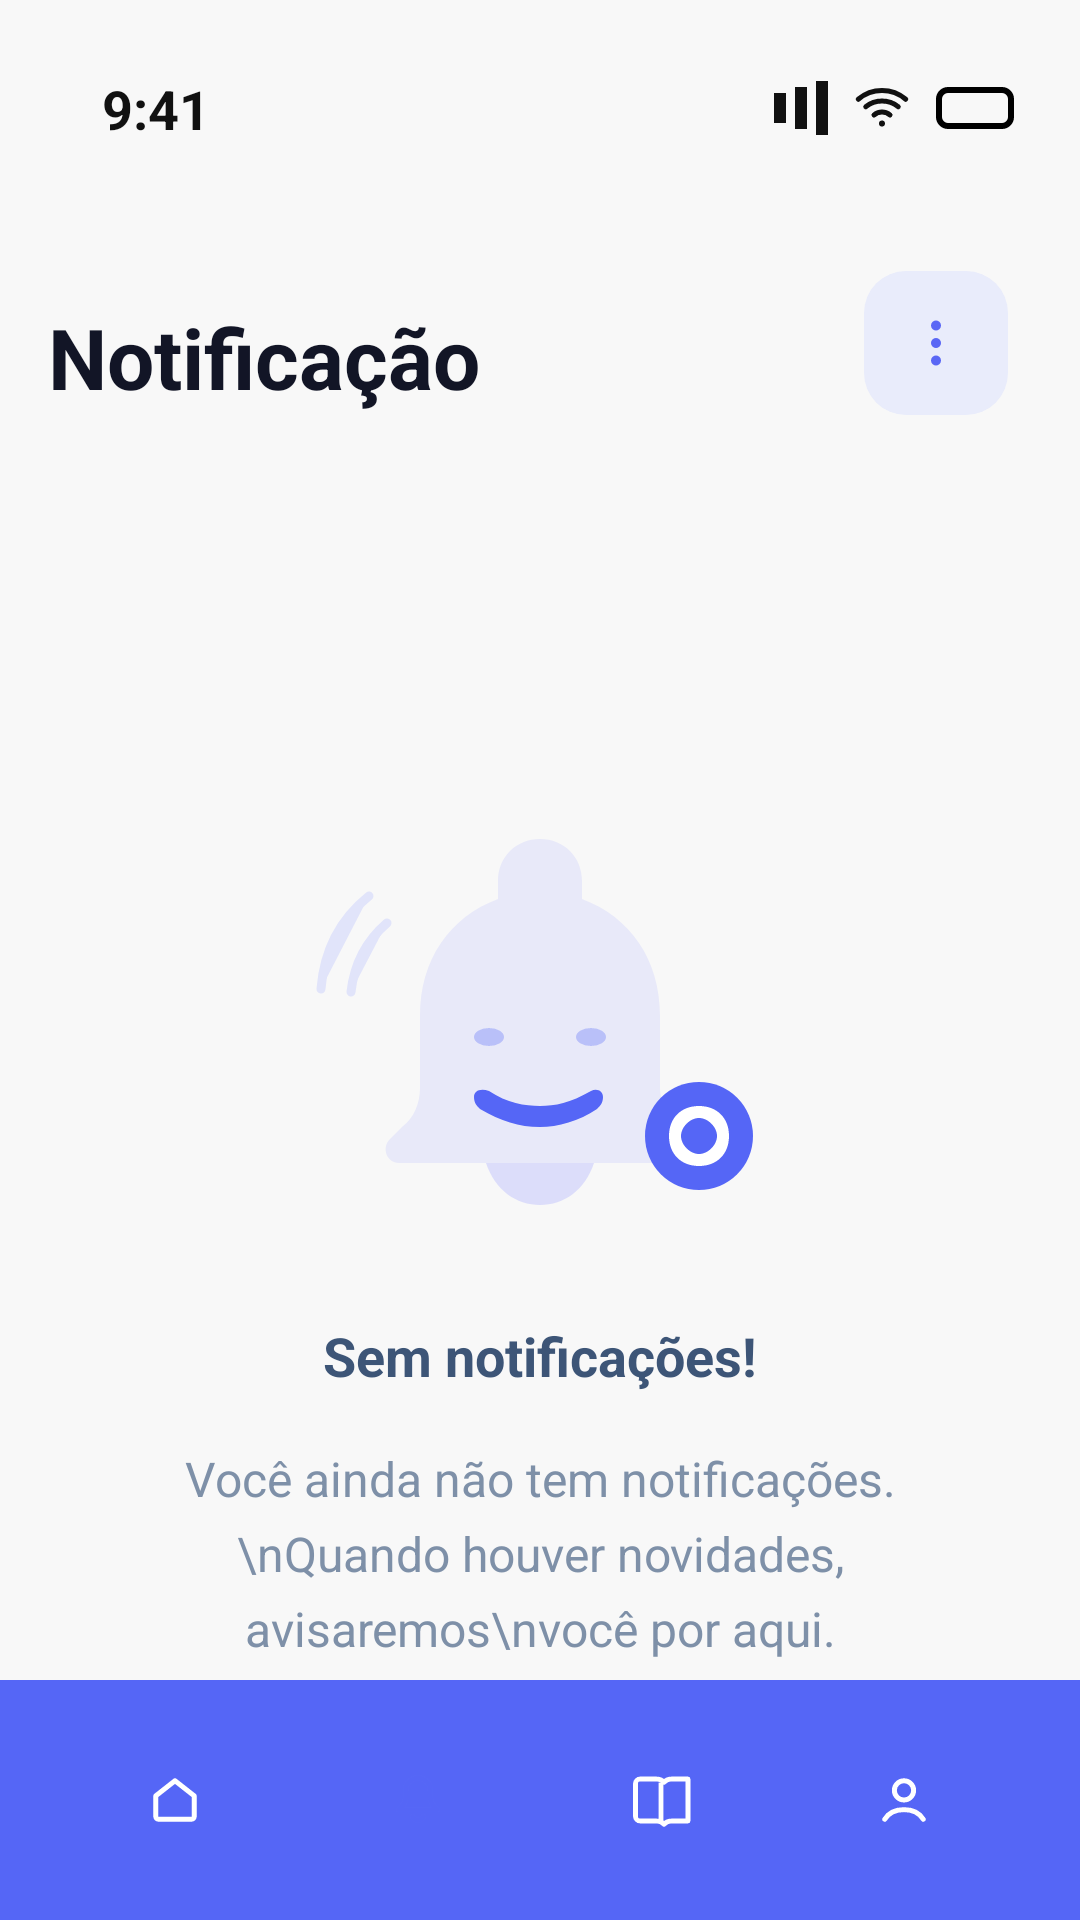

Where to tap for icons on this 1080px×1920px app screen, as (x=x, y=y):
book: (x=662, y=1801)
home: (x=175, y=1800)
user: (x=904, y=1800)
vertical: (x=936, y=343)
wifi: (x=882, y=107)
